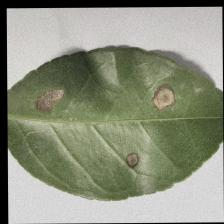canker: (133, 80, 185, 118)
